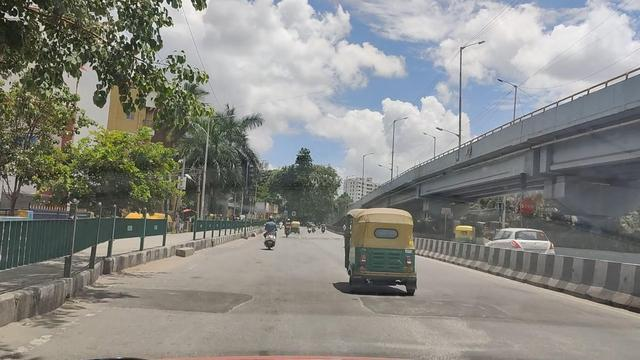LMV: (341, 206, 415, 292)
RoadDamages: (368, 301, 490, 356)
